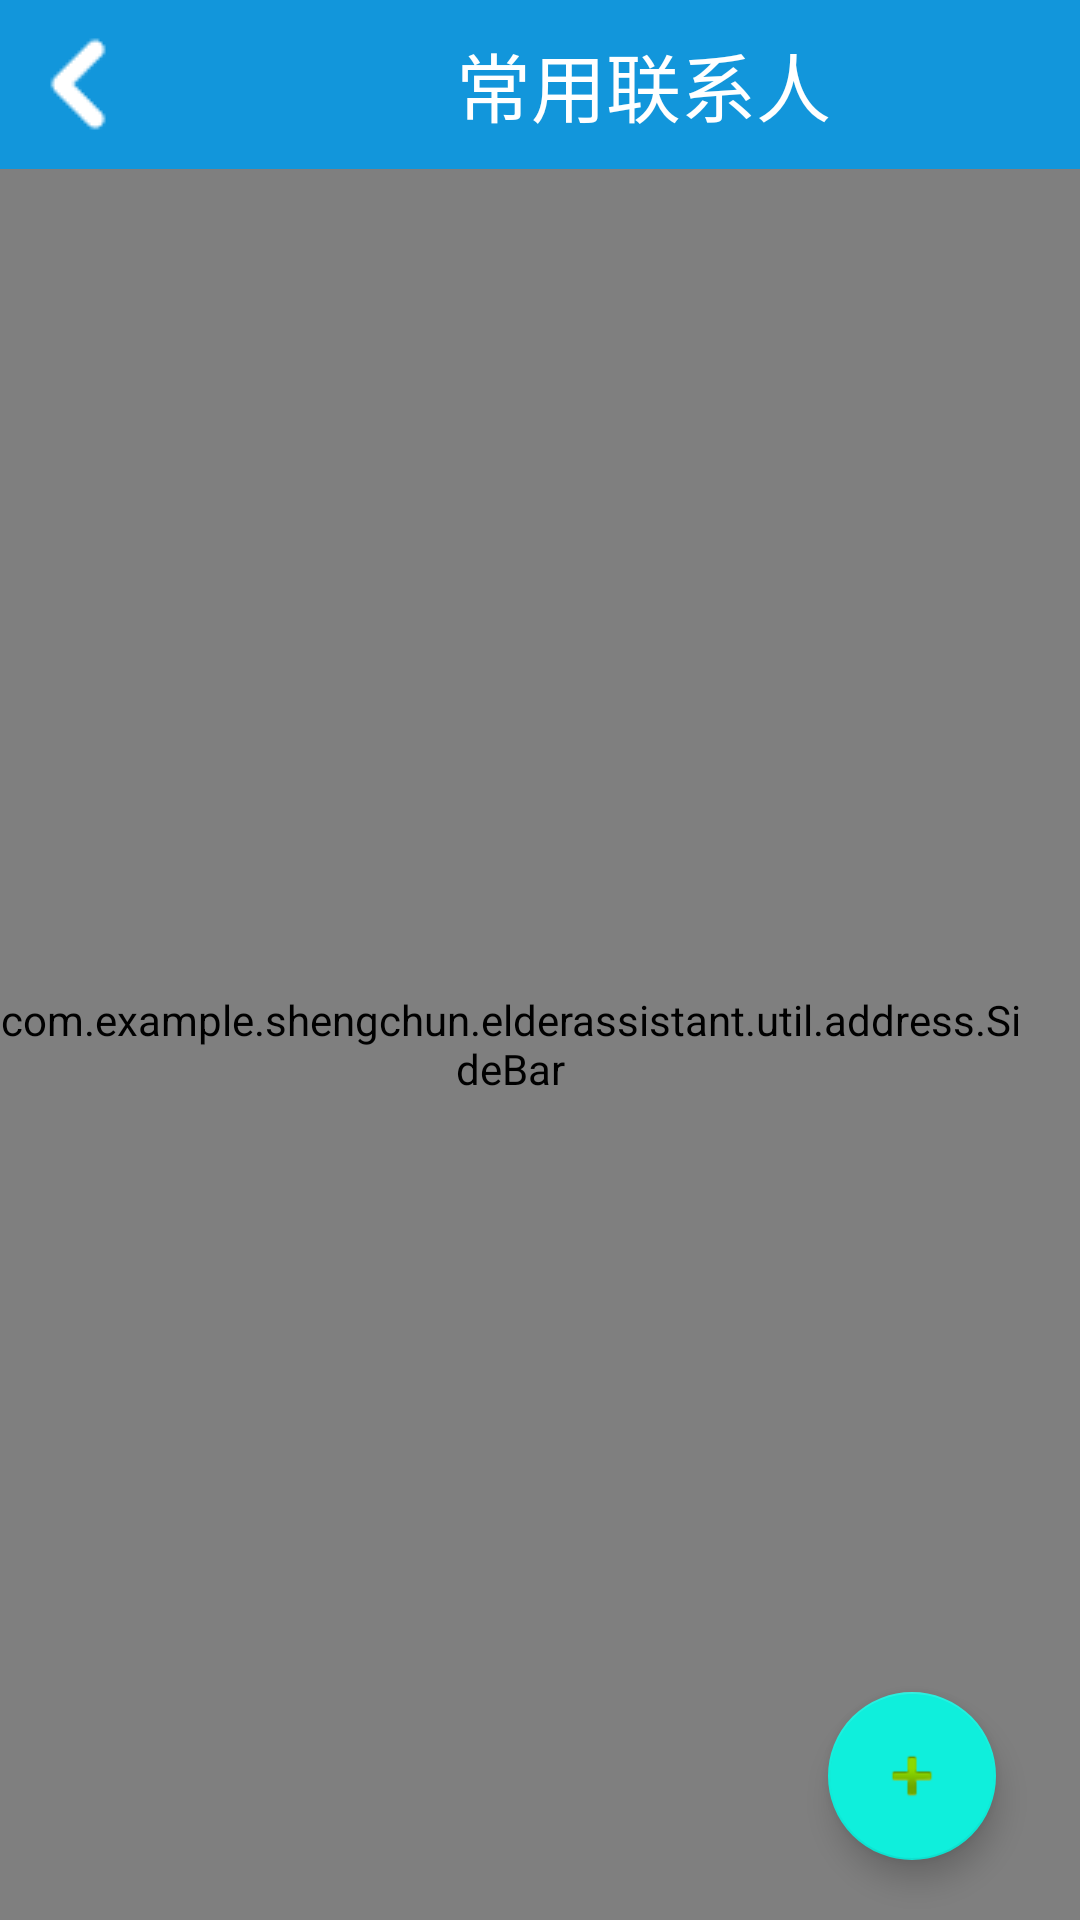

Icon click points for this 1080×1920 phone screenshot, format [x,y]:
add: [912,1776]
back: [78,84]
